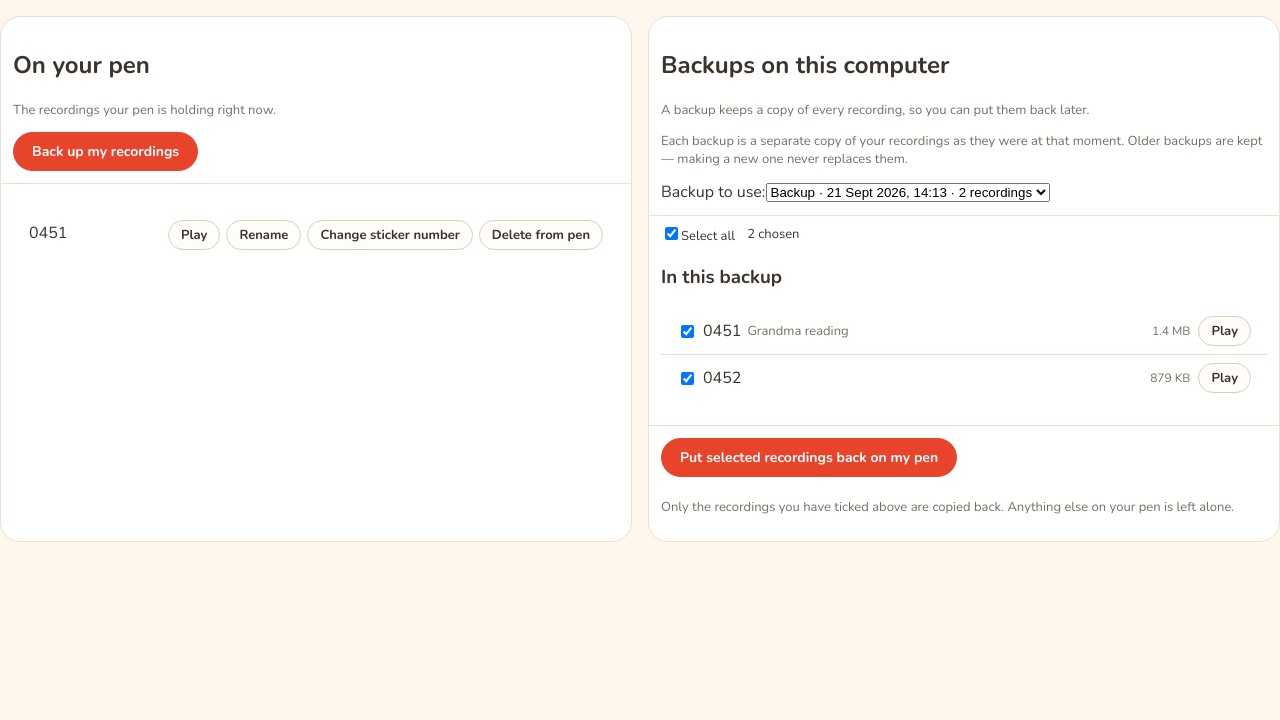
Test: recordings — what is inside a backup › cannot put anything back when nothing is ticked
Check: the heading "On your pen" is shown, box [13, 49, 150, 81]
Check: the heading "In this backup" is shown, box [661, 264, 782, 290]
Click the checkbox labelled "Select all".
click(672, 233)  # box [665, 227, 678, 240]
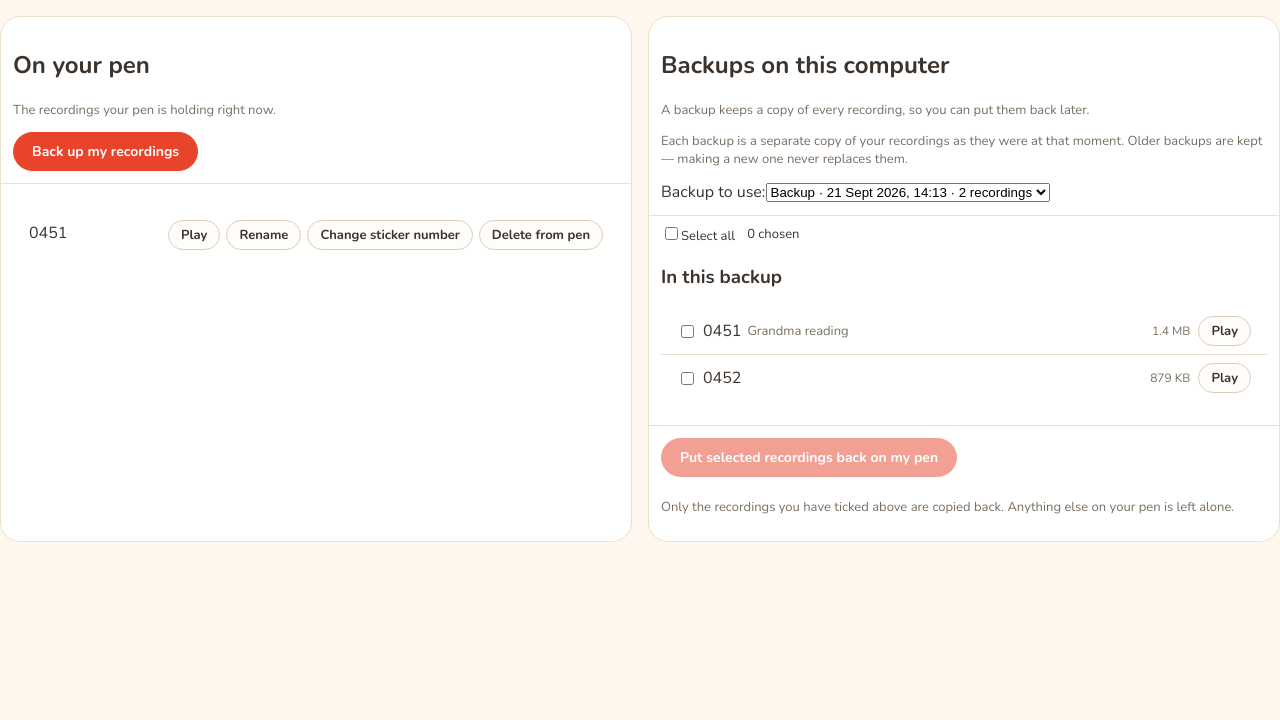
Check: the text "0 chosen" is shown, box [747, 225, 799, 243]
Check: the button "Put selected recordings back on my pen" is disabled, box [661, 438, 957, 477]
